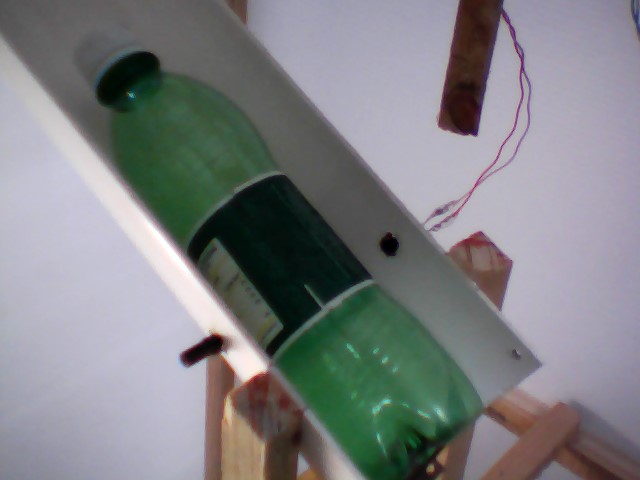plastico: (72, 19, 512, 480)
